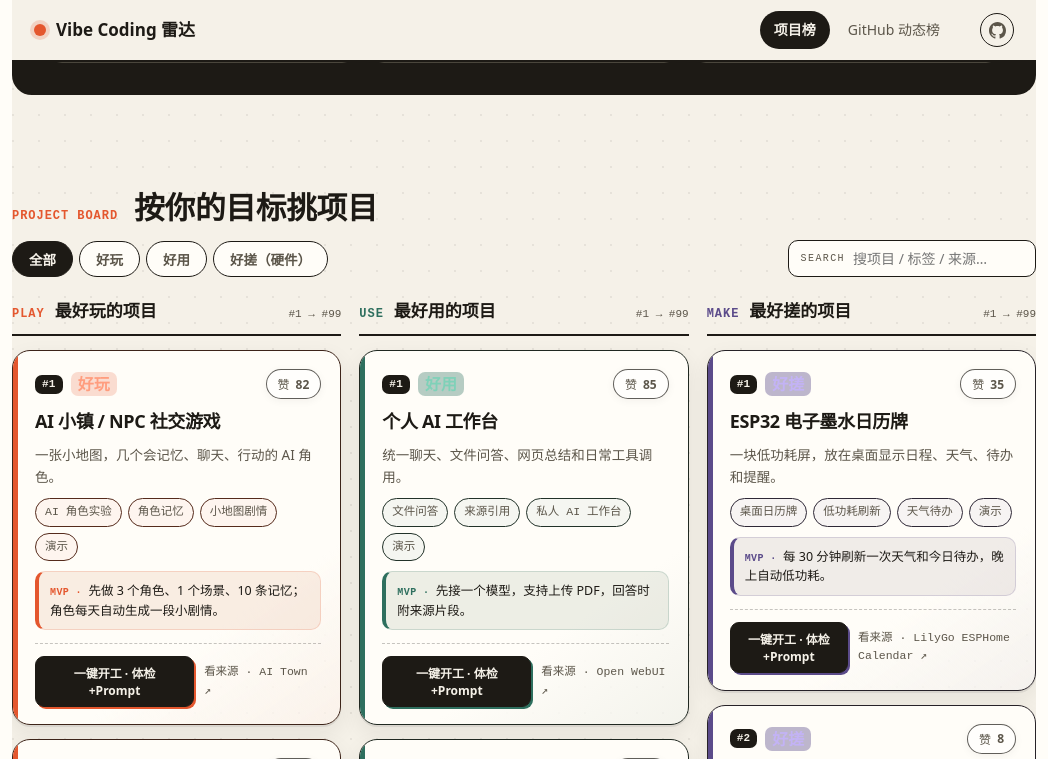
Test case: App › persists likes through the React state boundary
(page scrolled)
Click the button with class "like" showing "赞 82": [294, 384] box [266, 369, 321, 399]
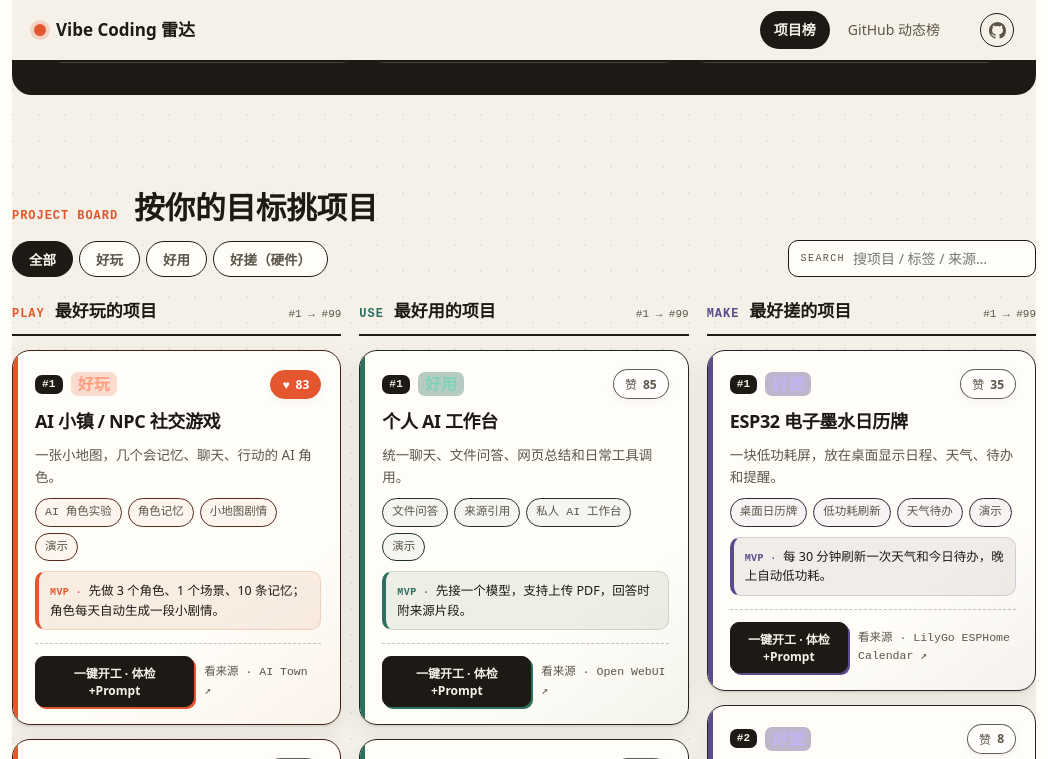
expect the button with class "like" shows "83": met, box [270, 370, 321, 399]
